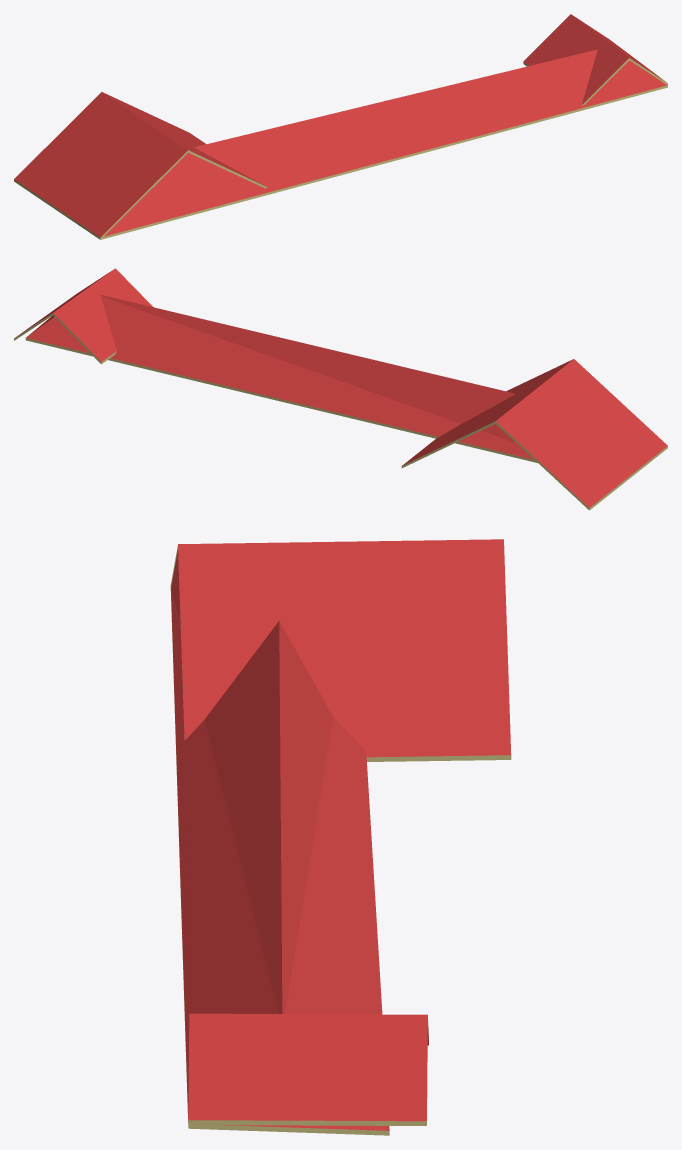
3 renders of one model, top to bottom at view 1: azimuth 30°, elevation 25°; view 2: azimuth 150°, elevation 25°; view 3: azimuth 270°, elevation 25°, orthographic. The views are drawn at different scales.
Size of the model in its own units: 25.37 by 6.47 by 2.79.
